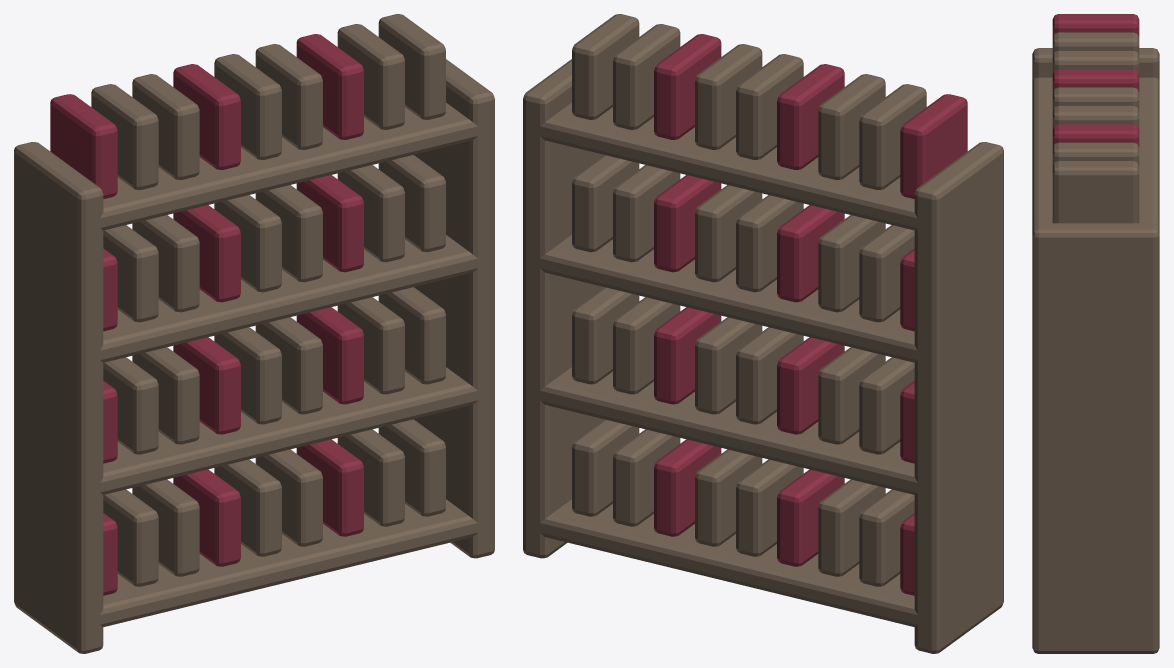
File: bookshelf.glb
3 views of the same model, side by side, from view 1: azimuth 30°, elevation 25°; view 2: azimuth 150°, elevation 25°; view 3: azimuth 270°, elevation 25° (orthographic). The views are drawn at different scales.
Visible parts, largest first — view 1: Body.062; view 2: Body.062; view 3: Body.062.
Part boxes in pixels (x1=…): Body.062: x1=14, y1=14, x2=494, y2=653; Body.062: x1=523, y1=14, x2=1003, y2=653; Body.062: x1=1032, y1=14, x2=1159, y2=653.
Bounding box in the file's own units: 1.32 × 1.55 × 0.38.
